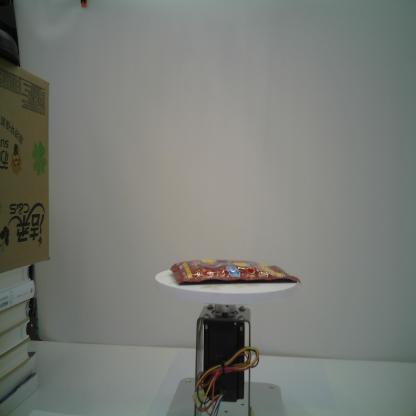Candy: (170, 258, 304, 291)
